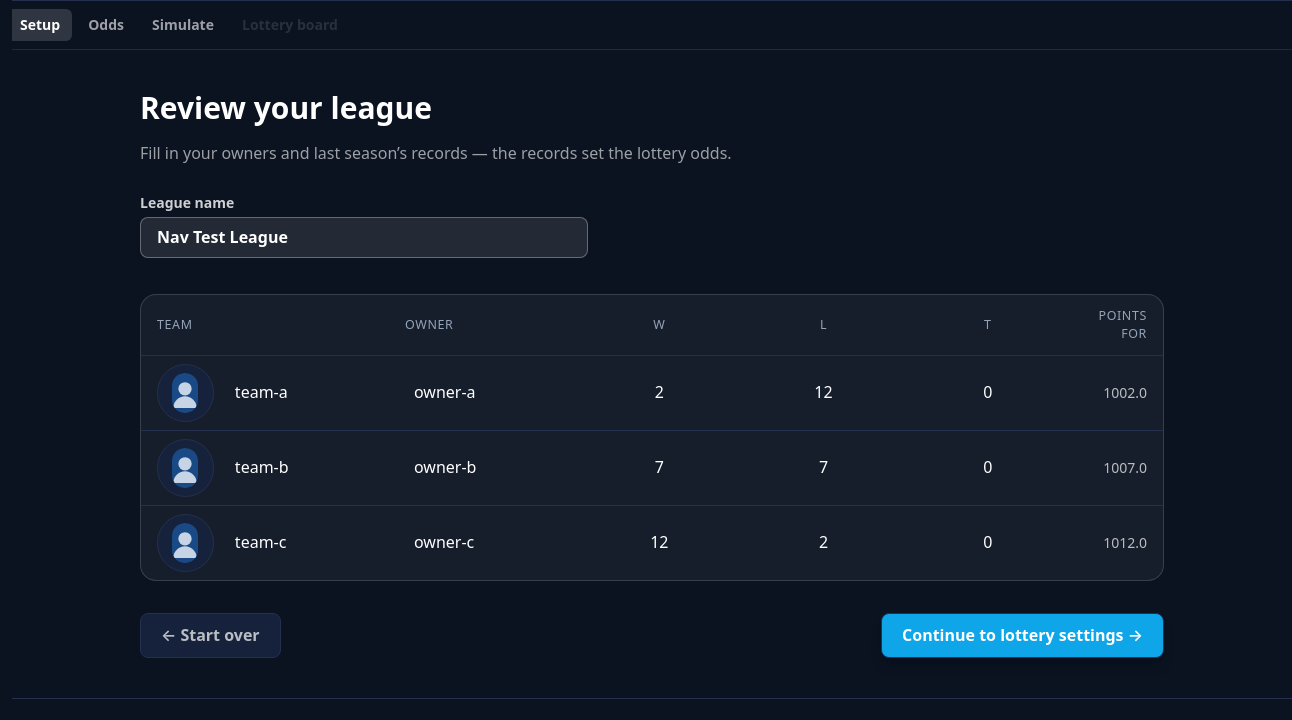
Scenario: LotteryApp › settings and simulation unlock with a league; board needs a result
The image size is (1292, 720).
Check: the button "Lottery board" is disabled, box [230,9,350,41]
Click the button "Simulate" at [183, 25], box [140,9,226,41]
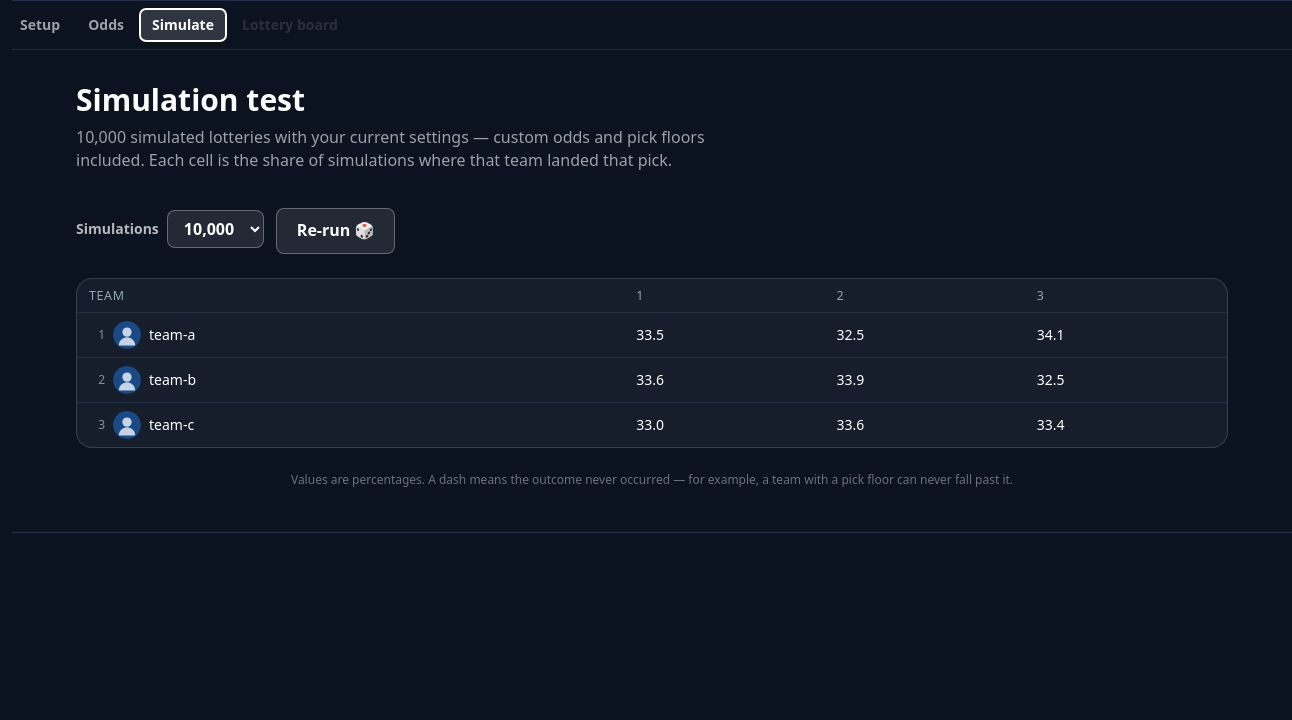
Click the button "Odds" at [106, 25], box [76,9,136,41]
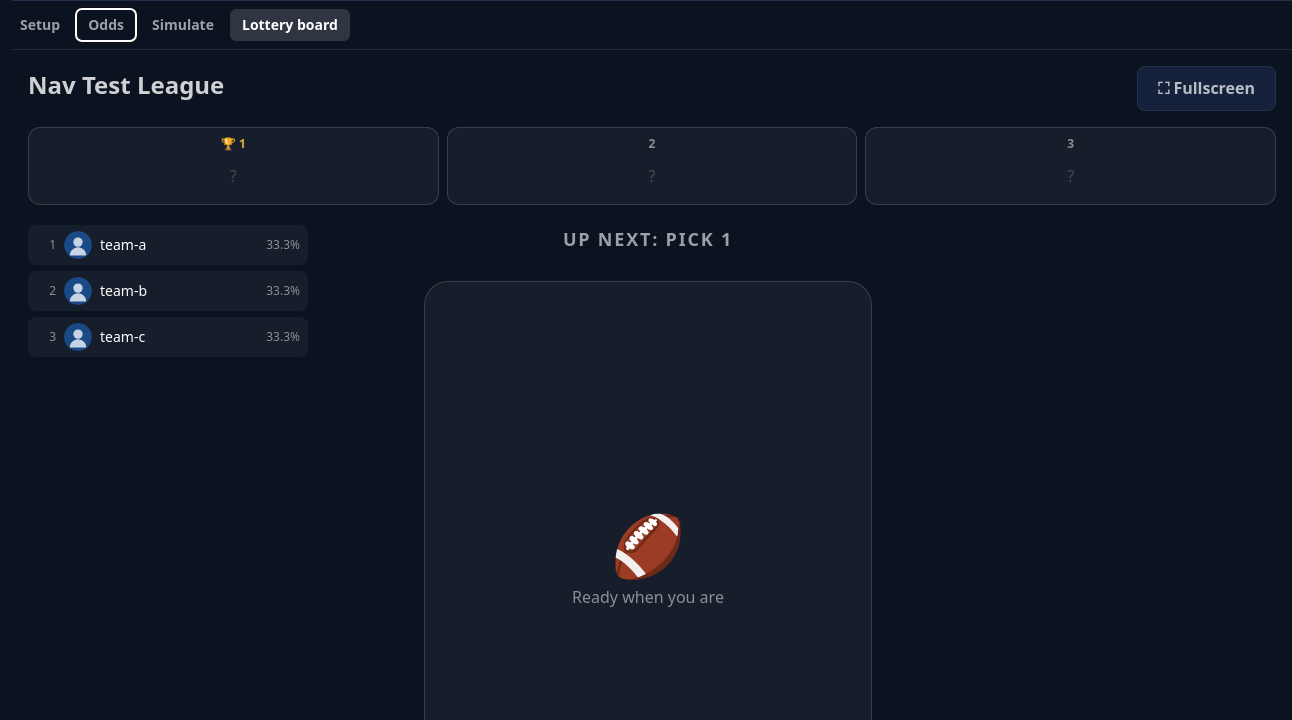
Check: the button "Lottery board" is enabled, box [230,9,350,41]
